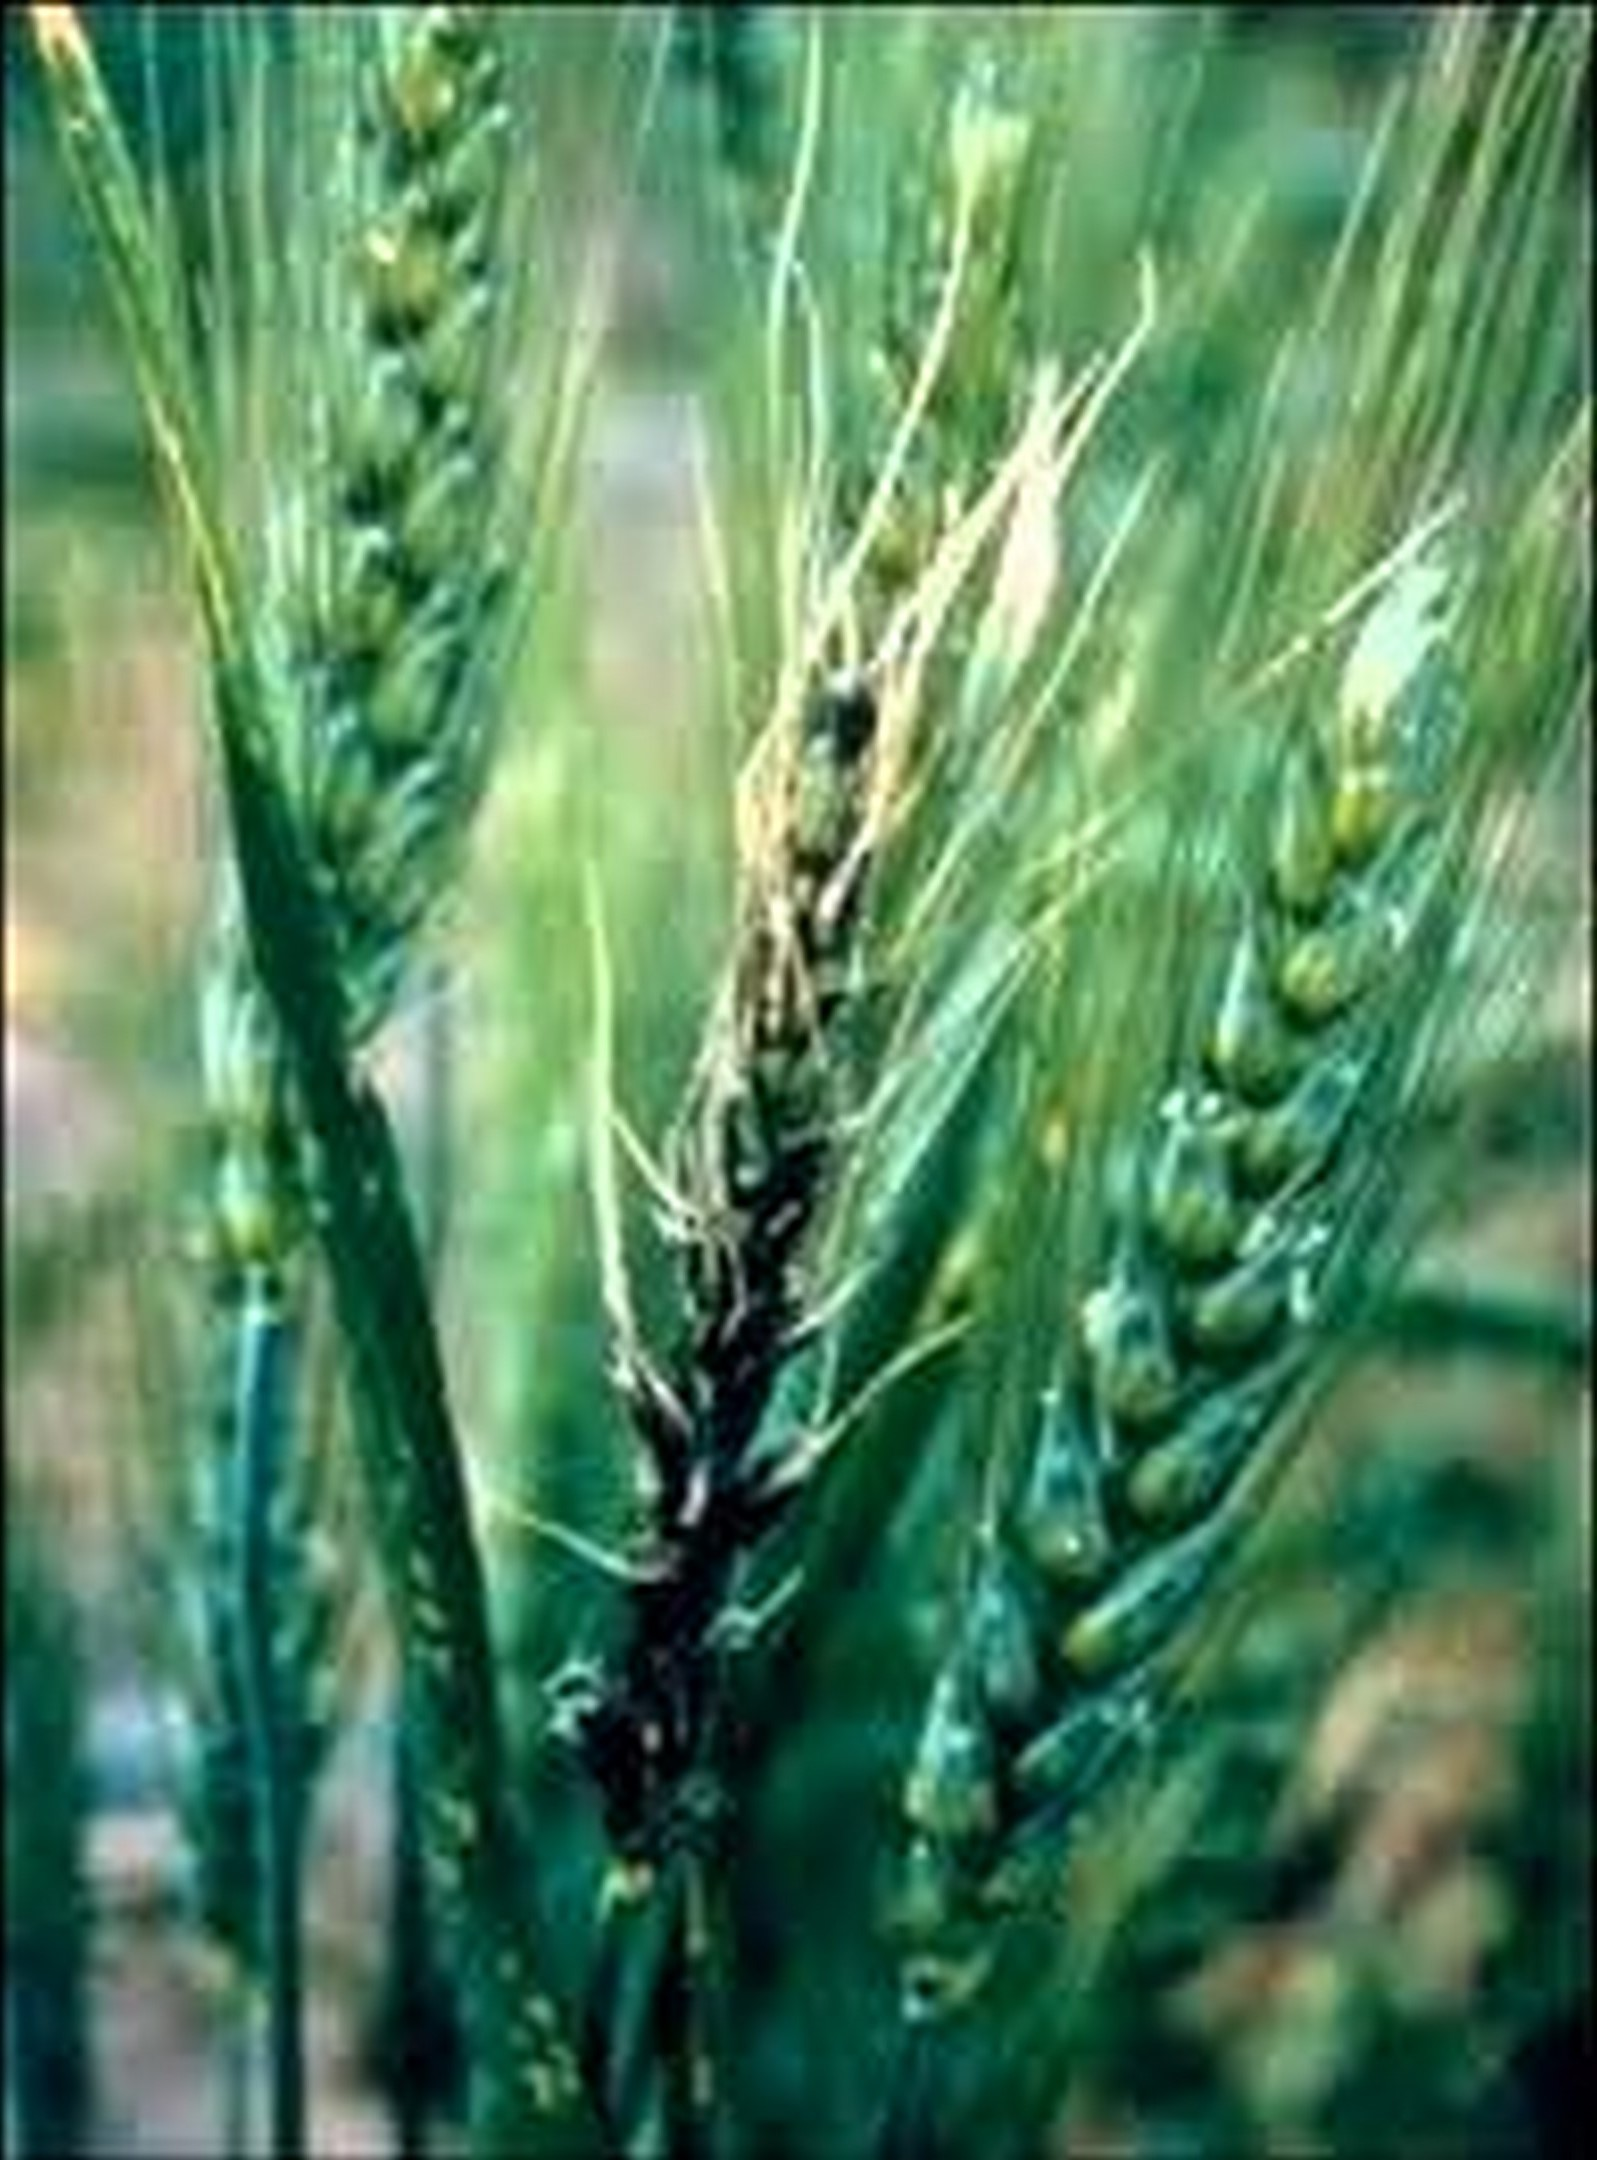Wheat Loose Smut: (570, 751, 936, 1768)
